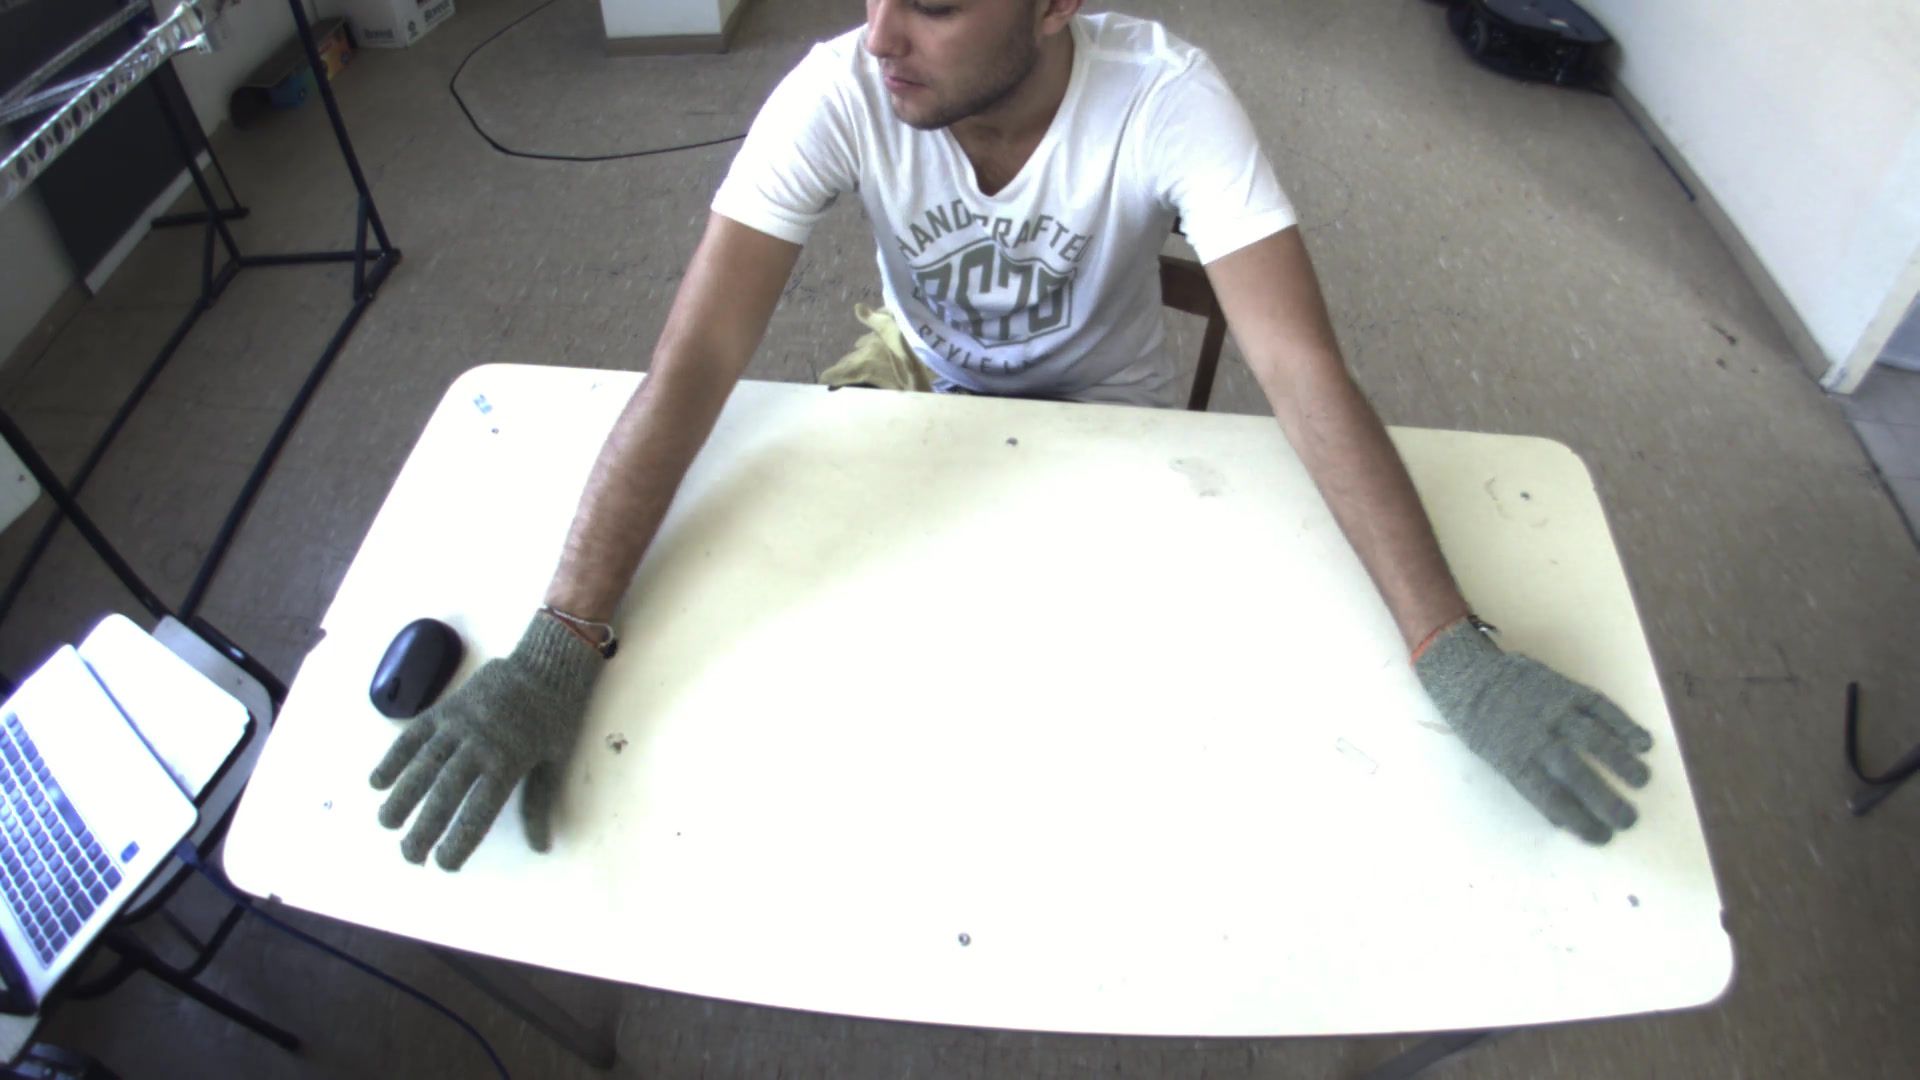hand: (343, 611, 611, 884), (1414, 630, 1671, 851)
